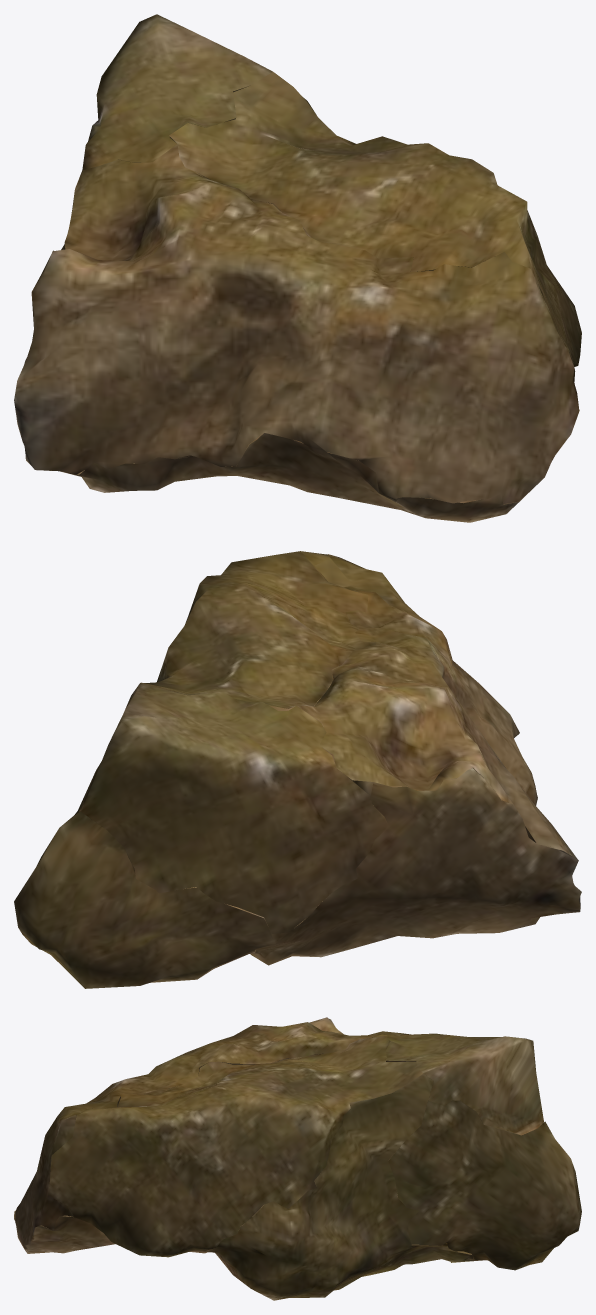
Rendered from pr_moss_a_05.fbx.
The picture shows the model from 3 angles, top to bottom: view 1: azimuth 30°, elevation 25°; view 2: azimuth 150°, elevation 25°; view 3: azimuth 270°, elevation 25°; orthographic projection. The views are drawn at different scales.
Parts seen in each view (by area): view 1: pr_moss_a_05_LOD0; view 2: pr_moss_a_05_LOD0; view 3: pr_moss_a_05_LOD0.
Boxes of the visible parts, left/top/right/bottom form: pr_moss_a_05_LOD0: left=14, top=14, right=581, bottom=522; pr_moss_a_05_LOD0: left=14, top=551, right=581, bottom=988; pr_moss_a_05_LOD0: left=14, top=1017, right=581, bottom=1300.
Size of what is drawn, in the model's own units: 2.13 by 1.26 by 2.76.
